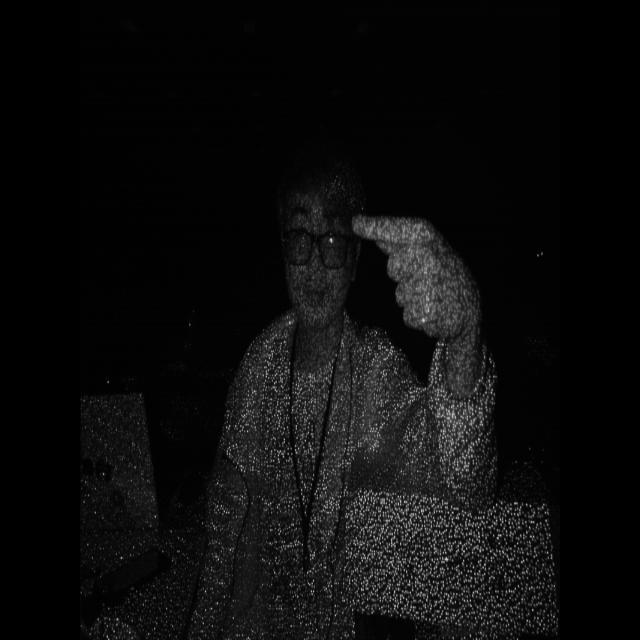G: (340, 192, 495, 364)
